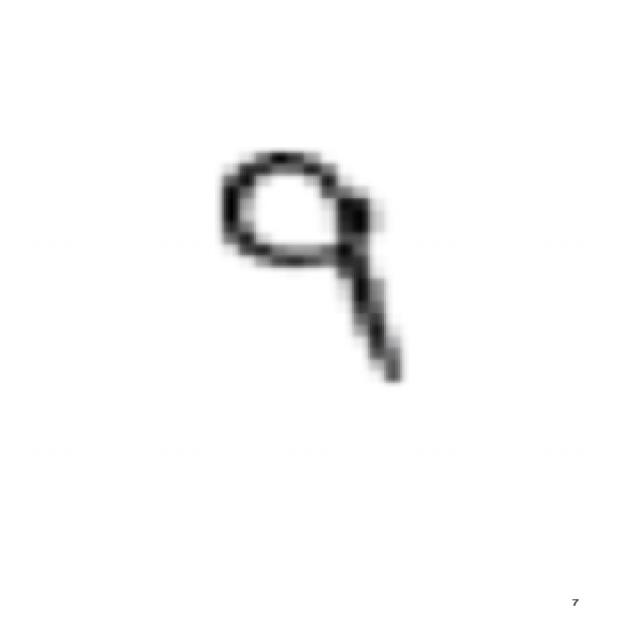9 -nine-: (196, 139, 420, 397)
